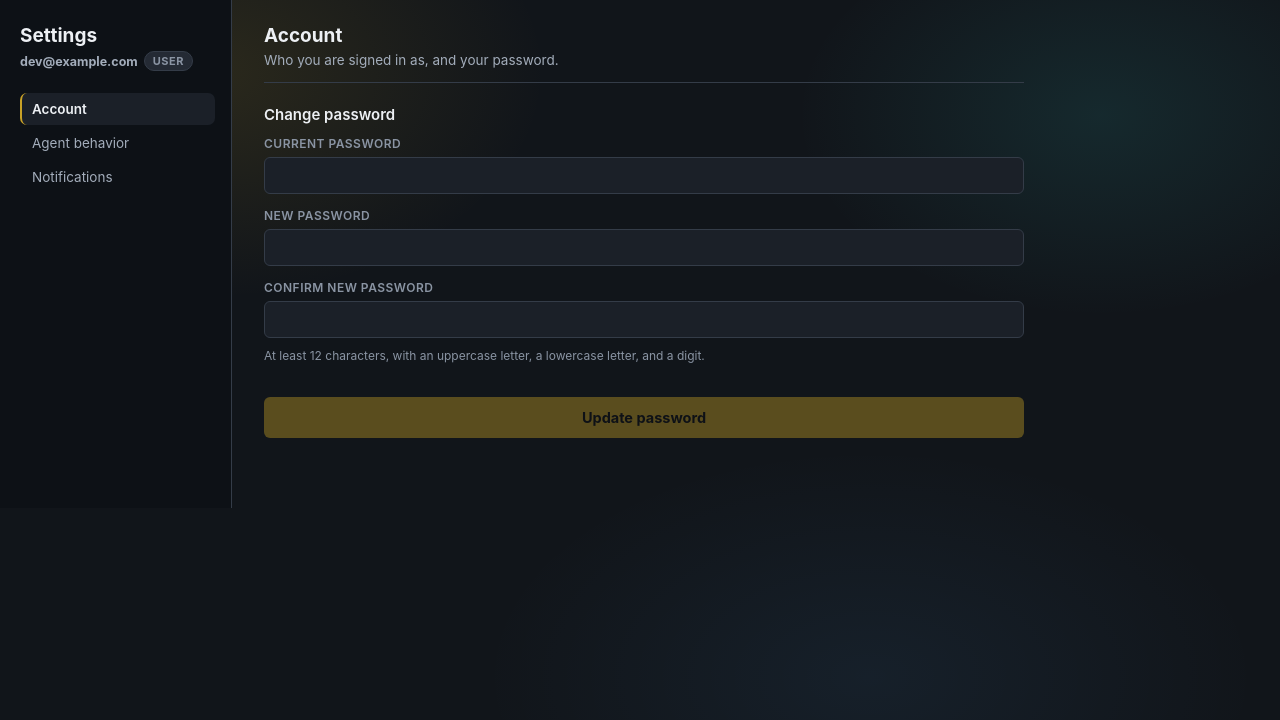
Test: auto mode is chosen per project › says plainly when it is on but covers nothing
Click the button "Agent behavior" at (118, 143), box [20,127,215,159]
(page scrolled)
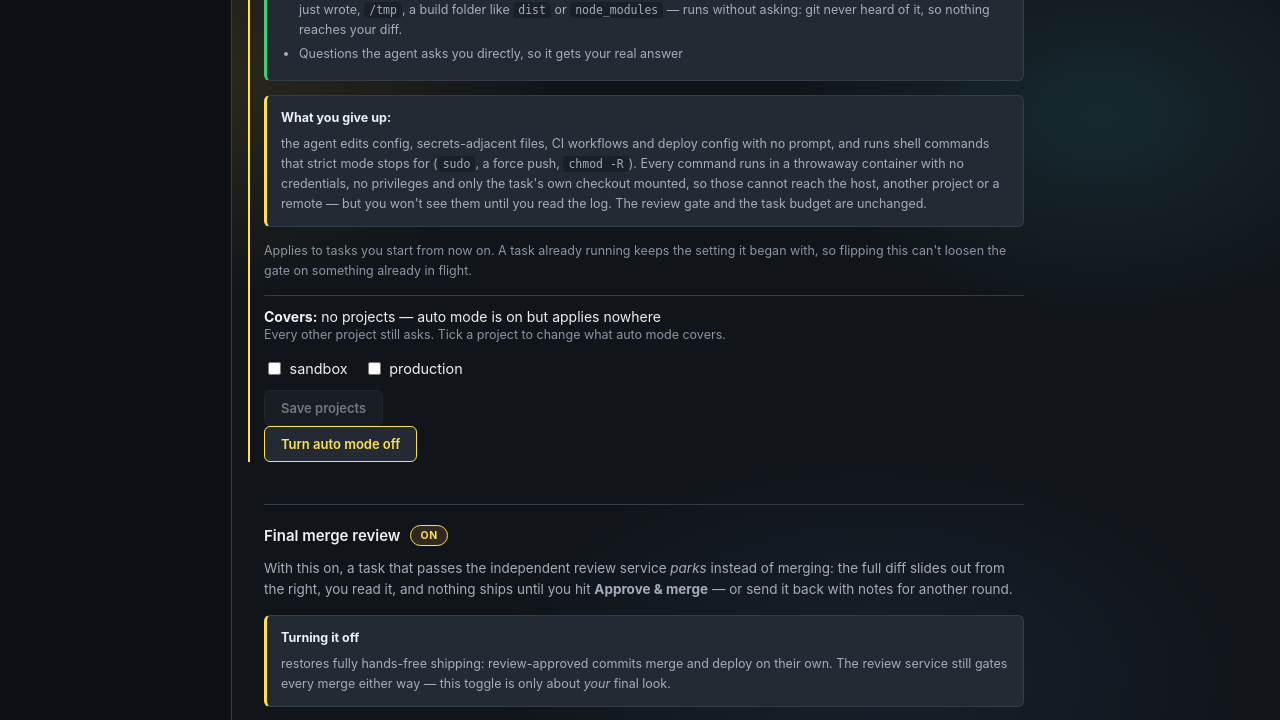
expect the text "auto mode is on but applies nowhere" is shown: met, box [321,308,661,325]
